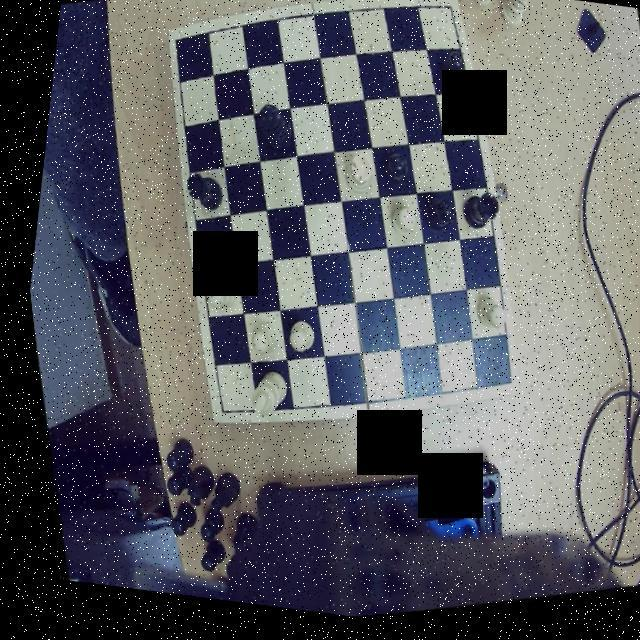chess-table-corners: (480, 370, 514, 406), (200, 398, 233, 431), (160, 28, 190, 64), (431, 0, 460, 30)
